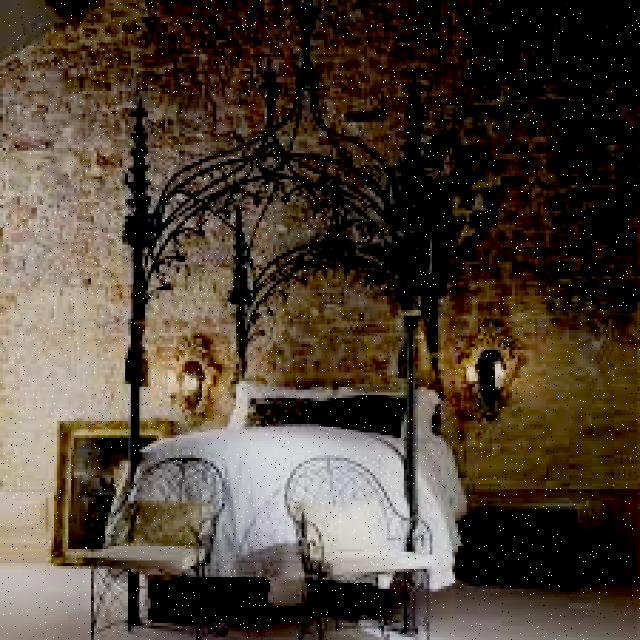bed: (120, 385, 454, 555)
